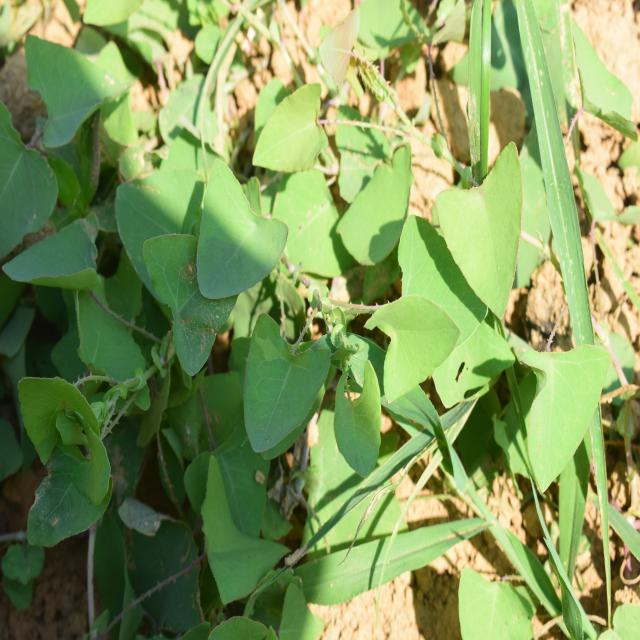Asiatic_Smartweed: (0, 185, 147, 529), (110, 134, 299, 386), (239, 262, 446, 481), (427, 131, 552, 338), (502, 290, 606, 493)
